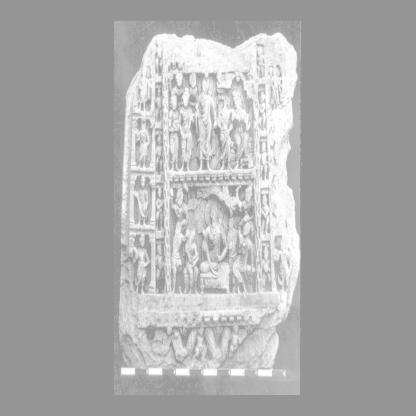buddha-sitting: (200, 199, 230, 294)
buddha-standing: (196, 77, 217, 170)
